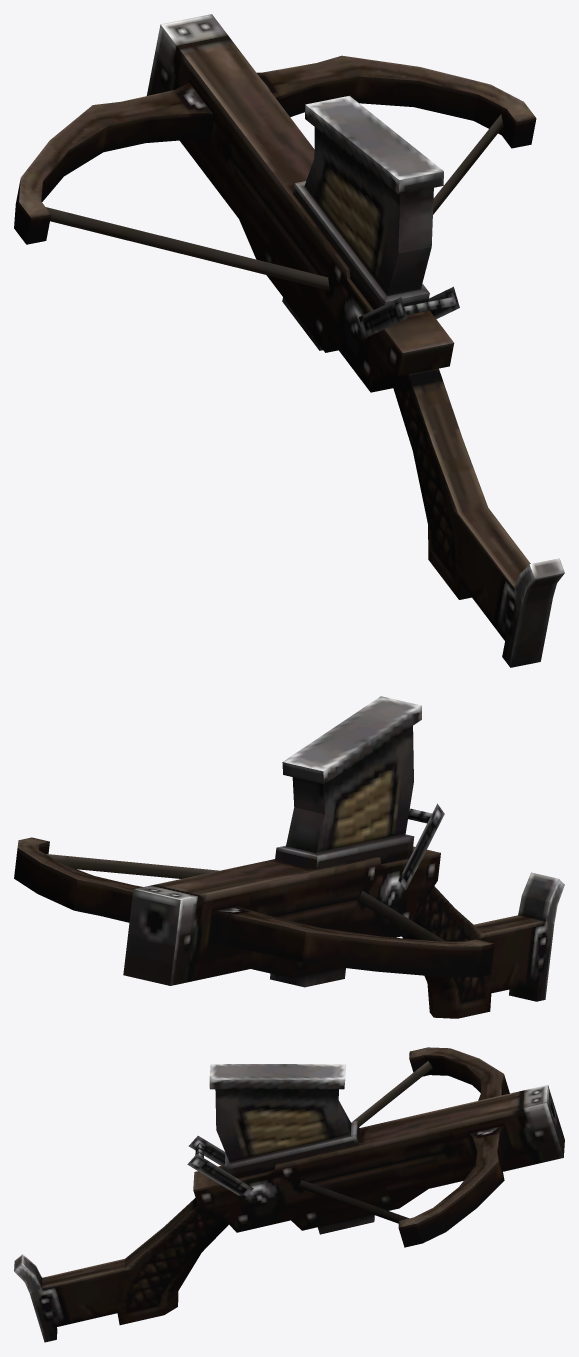
Rendered from crossbow15_19a9ce98.glb.
3 renders of one model, top to bottom at view 1: azimuth 30°, elevation 25°; view 2: azimuth 150°, elevation 25°; view 3: azimuth 270°, elevation 25°, orthographic. The views are drawn at different scales.
Size of the model in its own units: 0.7589 by 0.5815 by 1.06.
Materials: 1 (1 with a texture image).
